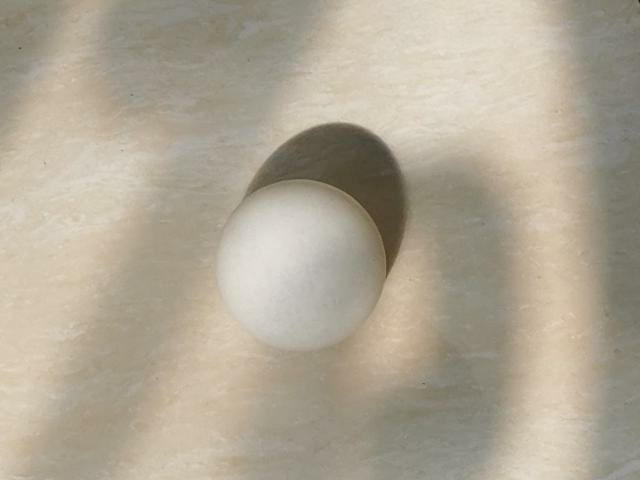ball: (214, 180, 387, 353)
